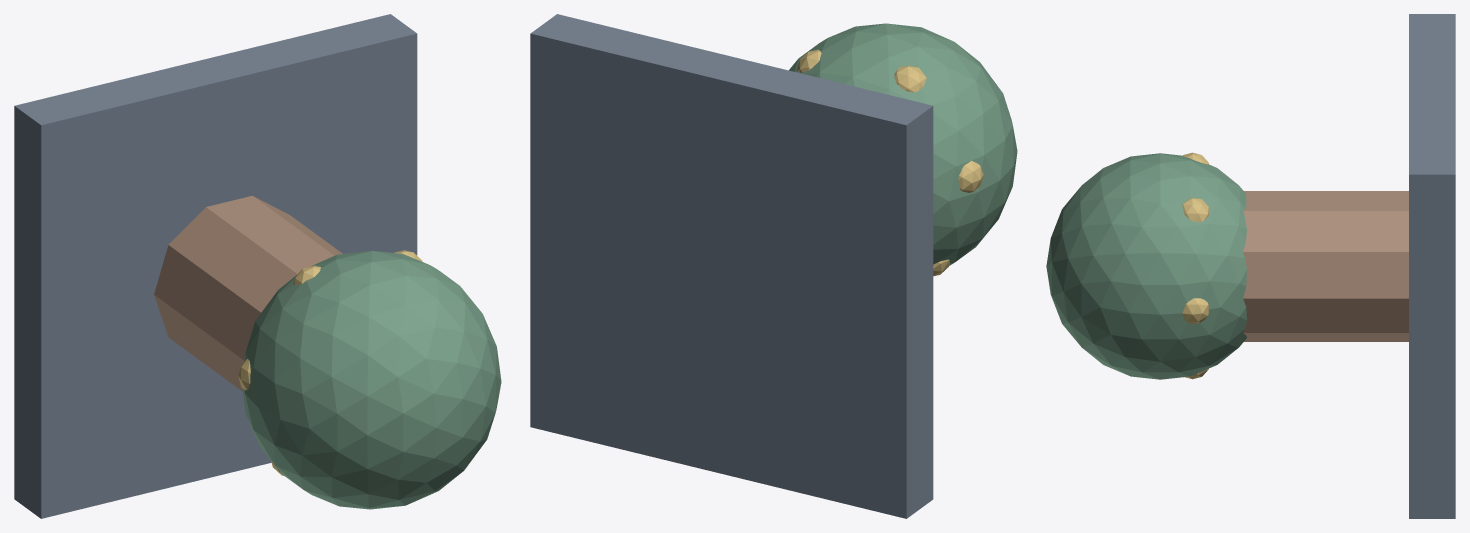
File: collectible_chest.glb
The picture shows the model from 3 angles, left to right: view 1: azimuth 30°, elevation 25°; view 2: azimuth 150°, elevation 25°; view 3: azimuth 270°, elevation 25°; orthographic projection. The views are drawn at different scales.
Parts seen in each view (by area): view 1: metal, green, wood, sun; view 2: metal, green, sun; view 3: green, wood, metal, sun.
Part boxes in pixels (x1,y1,x2,y2): metal: [14, 14, 417, 518]; green: [242, 251, 501, 509]; wood: [154, 195, 342, 391]; sun: [238, 250, 422, 475]; metal: [530, 14, 933, 518]; green: [789, 23, 1017, 265]; sun: [796, 49, 983, 276]; green: [1046, 153, 1246, 379]; wood: [1243, 191, 1408, 341]; metal: [1409, 14, 1455, 518]; sun: [1182, 152, 1209, 379].
Size of the model in its own units: 2.6 by 2.6 by 2.8.
